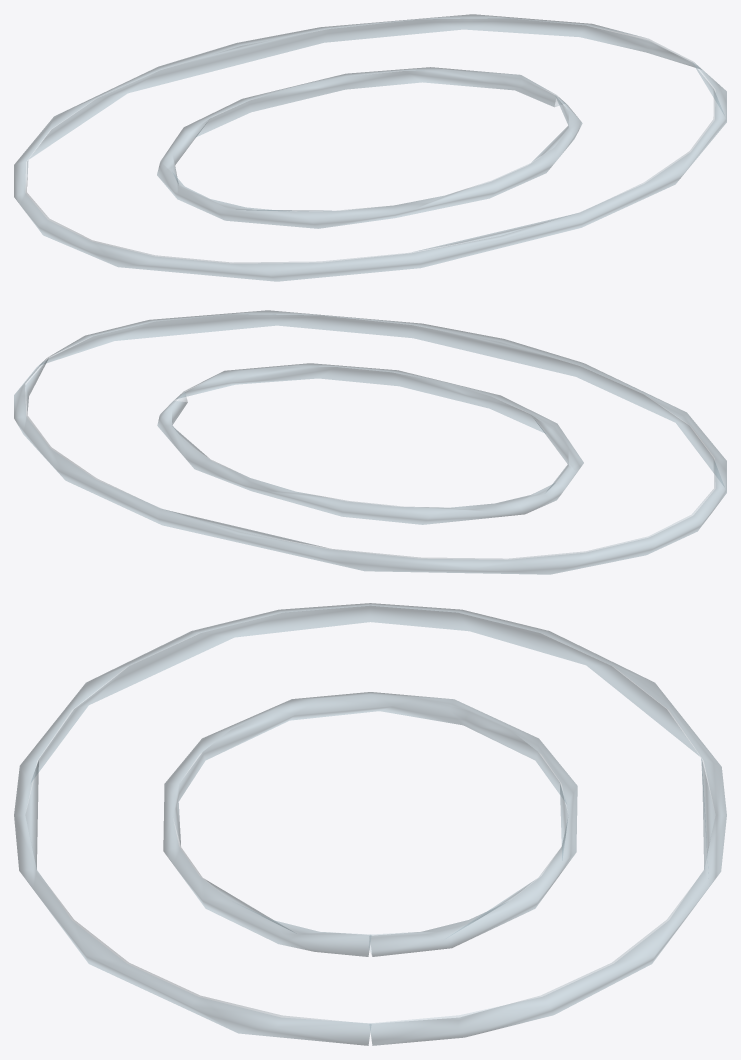
The model's file is DoorwayPuddle.glb.
3 renders of one model, top to bottom at view 1: azimuth 30°, elevation 25°; view 2: azimuth 150°, elevation 25°; view 3: azimuth 270°, elevation 25°, orthographic. The views are drawn at different scales.
Visible parts, largest first — view 1: RainRipple.003, RainRipple.002; view 2: RainRipple.003, RainRipple.002; view 3: RainRipple.003, RainRipple.002.
Boxes of the visible parts, box(x1,y1,x2,y2) form: RainRipple.003: box(14, 14, 726, 281); RainRipple.002: box(157, 67, 582, 228); RainRipple.003: box(14, 310, 726, 574); RainRipple.002: box(157, 363, 583, 524); RainRipple.003: box(14, 603, 726, 1045); RainRipple.002: box(163, 692, 577, 956).
Size of what is drawn, in the model's own units: 0.6324 by 0.0153 by 0.441.
